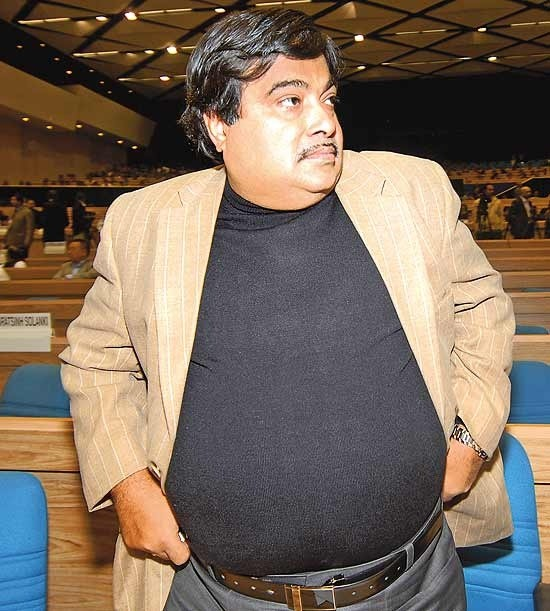face_no_mask: (187, 14, 344, 208)
